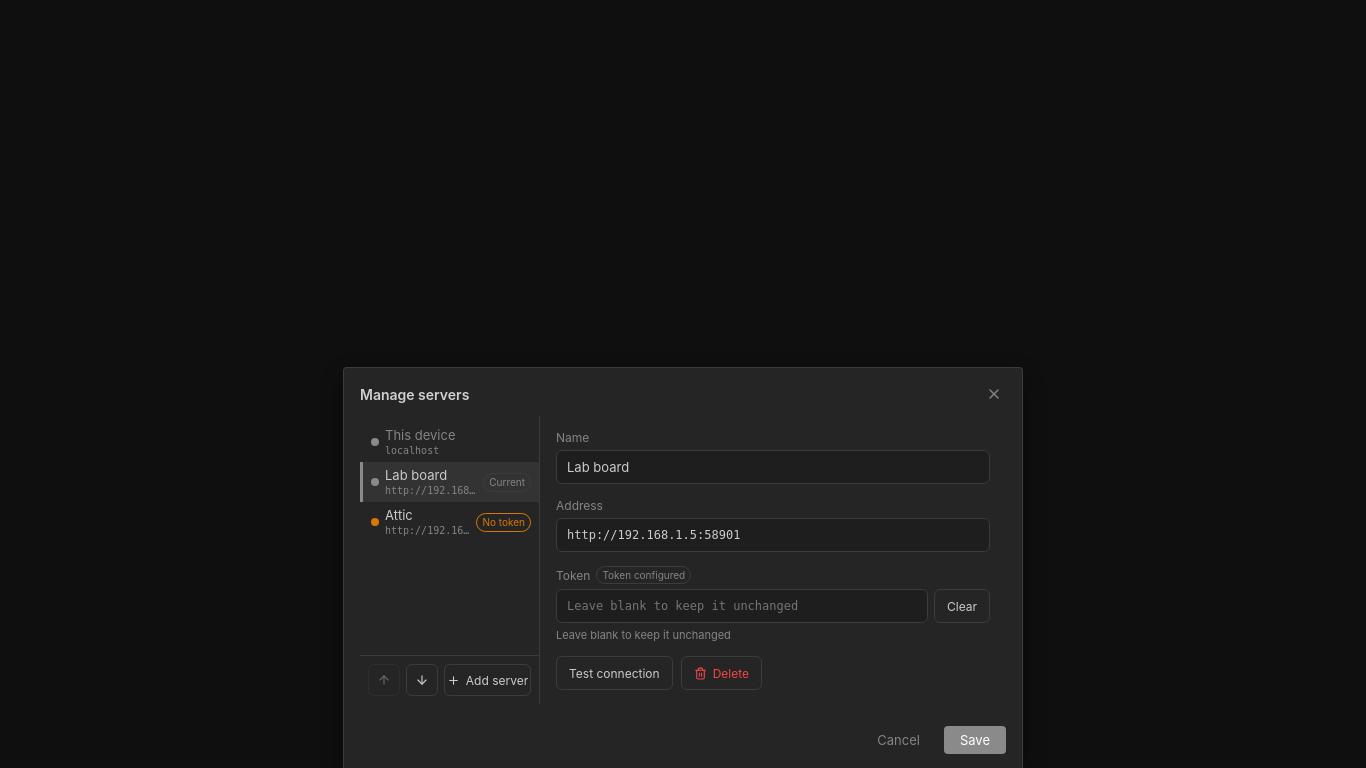
Test: ServerManagerDialog › reports a rejected token as such
This screenshot has width=1366, height=768.
Click the button with class "srv-mgr-btn--test" at (614, 673), box [556,656,673,690]
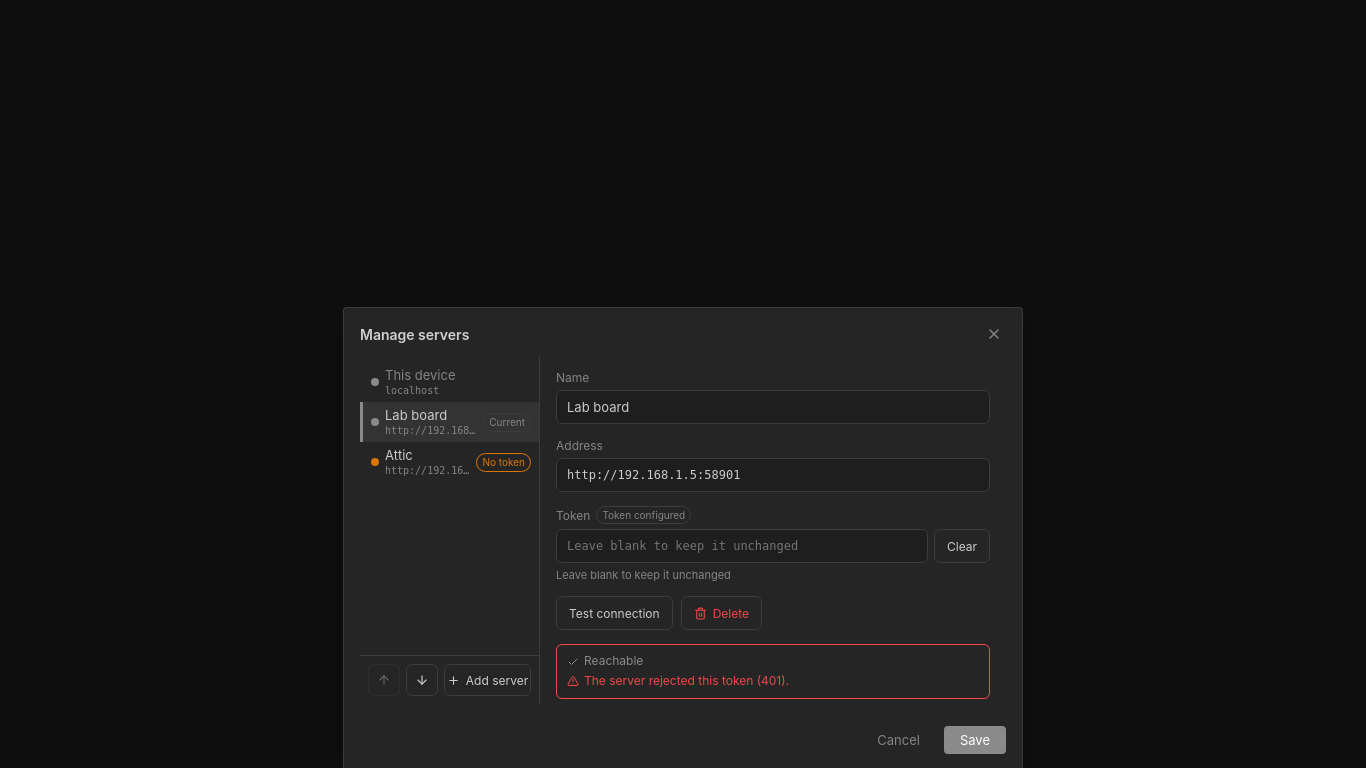
Result: the element with class "bad" shows "rejected this token" at [584,673,789,688]
